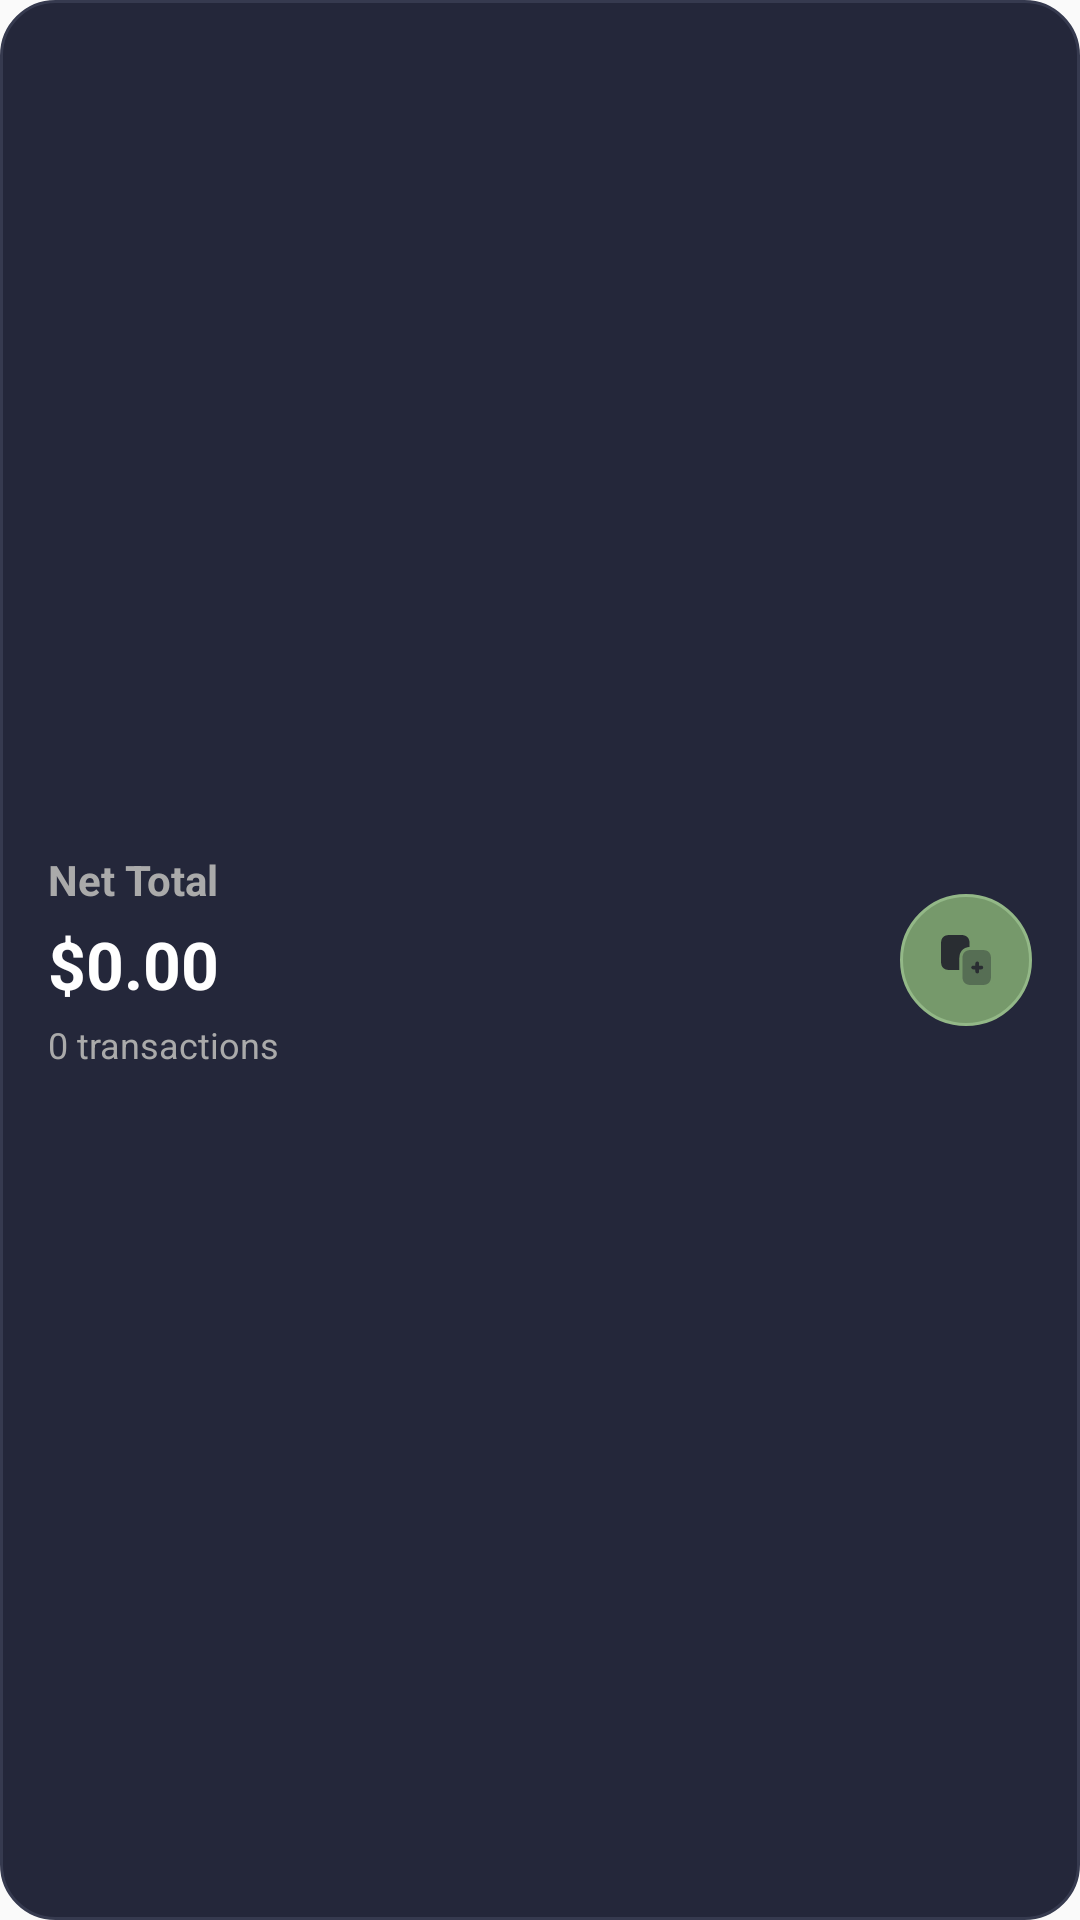

Screen size 1080px×1920px. Icon name, then its box in pixels as bbox(x1, y1, x2, y2):
Add Transaction: bbox(900, 894, 1032, 1026)
